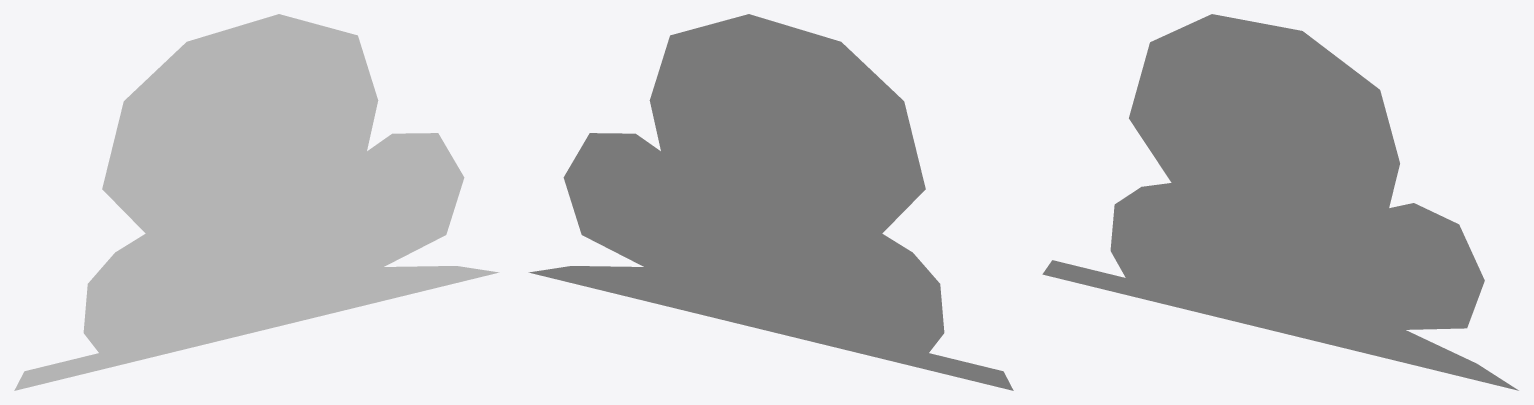
The model's file is picture_061.glb.
3 renders of one model, left to right at view 1: azimuth 30°, elevation 25°; view 2: azimuth 150°, elevation 25°; view 3: azimuth 330°, elevation 25°, orthographic.
Visible parts, largest first — view 1: picture_061; view 2: picture_061; view 3: picture_061.
Boxes of the visible parts, bbox=[...] form: picture_061: bbox=[14, 14, 499, 390]; picture_061: bbox=[528, 14, 1013, 390]; picture_061: bbox=[1042, 14, 1518, 390].
Bounding box in the file's own units: 0.3532 × 0.2171 × 0.
1 material, 1 textured.
